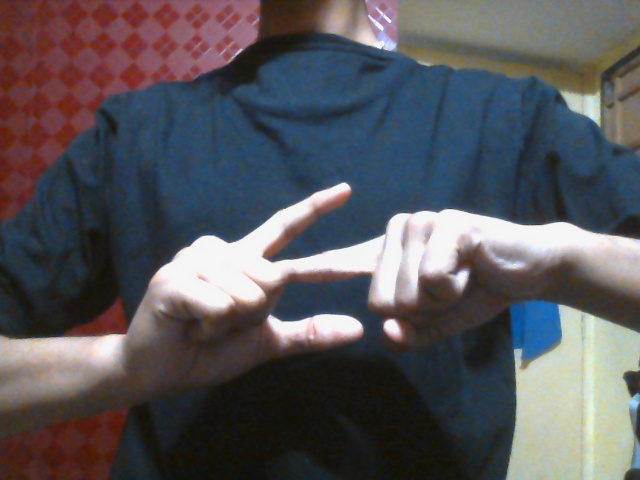E: (135, 180, 497, 393)
